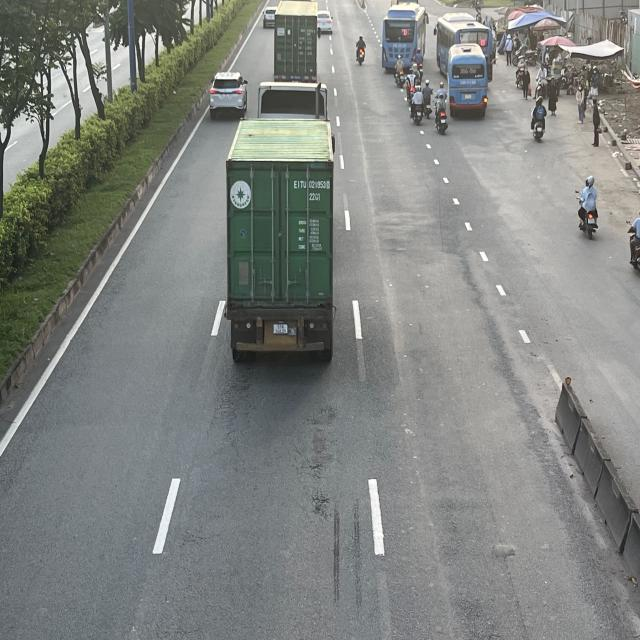car: (208, 70, 248, 116), (316, 12, 334, 34), (264, 5, 279, 28)
coach: (378, 3, 426, 75), (448, 45, 492, 116)
container: (225, 83, 337, 368), (273, 4, 319, 86)
